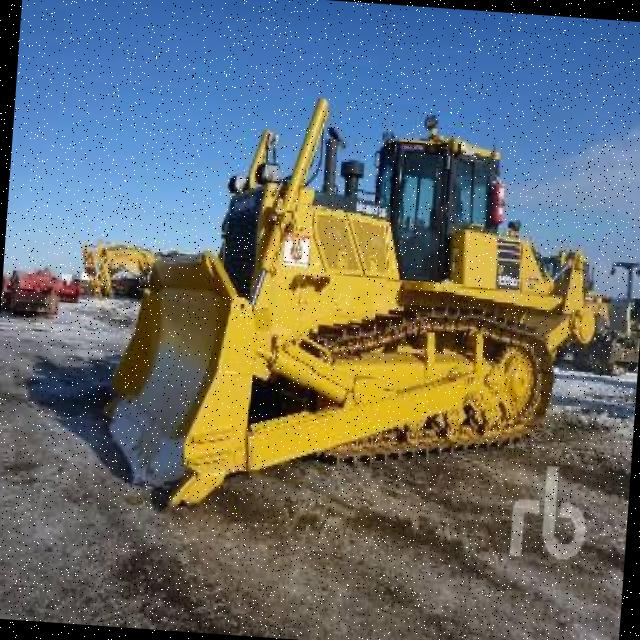Bulldozer: (61, 65, 632, 551)
